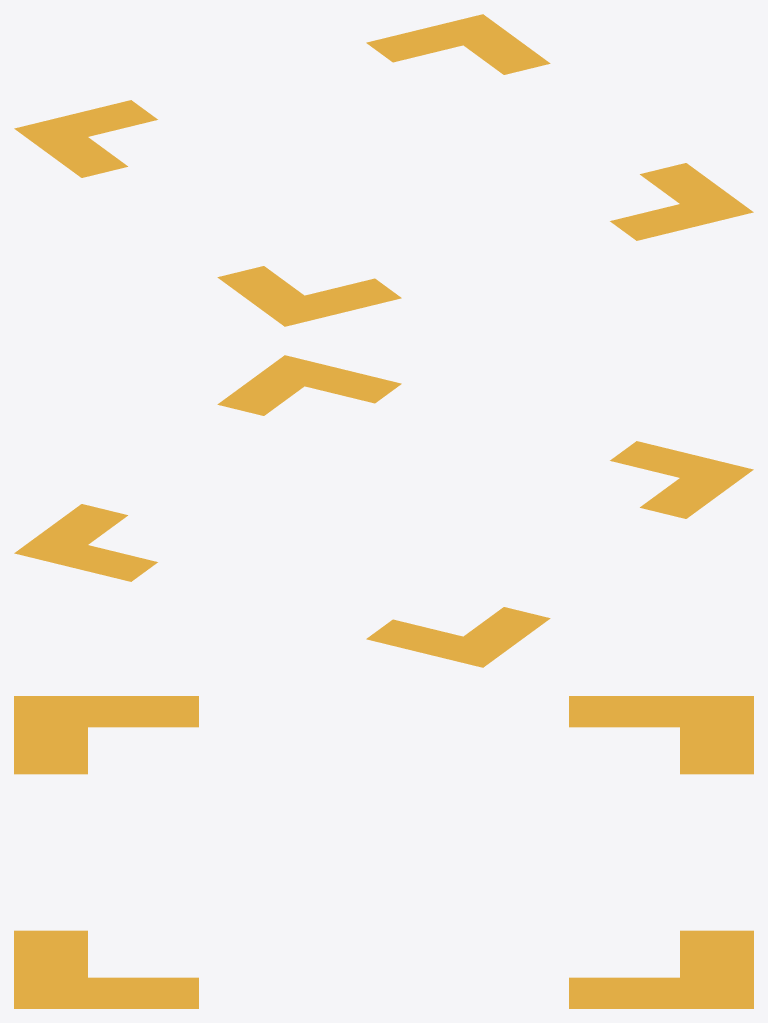
Rendered from indicator-square-c.glb.
3 views of the same model, one above another, from view 1: azimuth 30°, elevation 25°; view 2: azimuth 150°, elevation 25°; view 3: azimuth 270°, elevation 25° (orthographic). The views are drawn at different scales.
Visible parts, largest first — view 1: indicator-square-c; view 2: indicator-square-c; view 3: indicator-square-c.
Boxes of the visible parts, left/top/right/bottom form: indicator-square-c: left=14, top=14, right=753, bottom=326; indicator-square-c: left=14, top=355, right=753, bottom=667; indicator-square-c: left=14, top=696, right=753, bottom=1008.
Size of the model in its own units: 1 by 0 by 1.
1 material, 1 textured.
